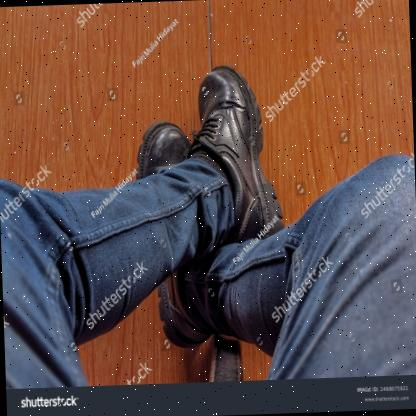bota: (184, 61, 287, 246)
